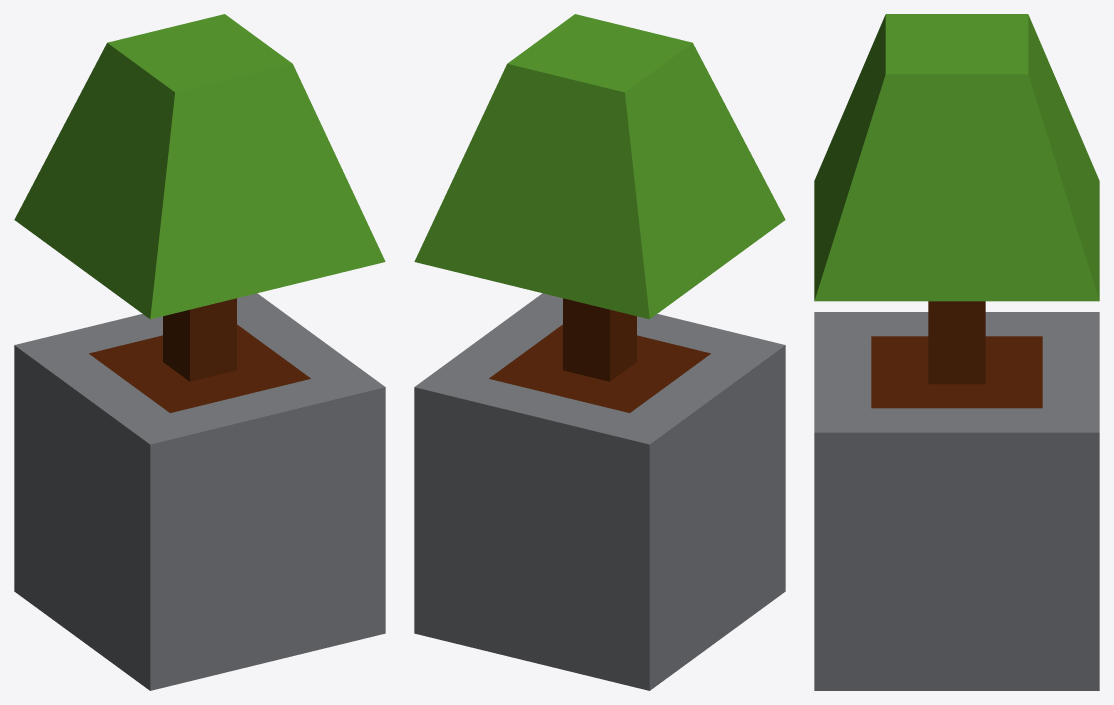
The model's file is mini_tree.glb.
3 views of the same model, side by side, from view 1: azimuth 30°, elevation 25°; view 2: azimuth 150°, elevation 25°; view 3: azimuth 270°, elevation 25° (orthographic). The views are drawn at different scales.
Visible parts, largest first — view 1: mergedBlocks(Clone); view 2: mergedBlocks(Clone); view 3: mergedBlocks(Clone).
Boxes of the visible parts, left/top/right/bottom form: mergedBlocks(Clone): left=14, top=14, right=385, bottom=690; mergedBlocks(Clone): left=414, top=14, right=785, bottom=690; mergedBlocks(Clone): left=814, top=14, right=1099, bottom=690.
Size of the model in its own units: 1 by 2.27 by 1.
